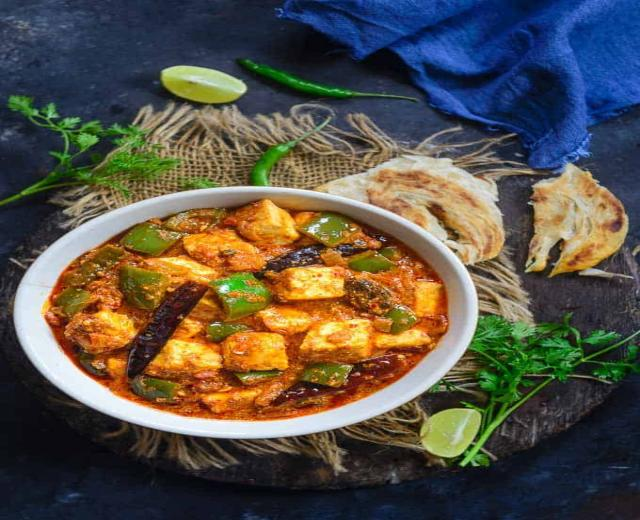kadai paneer: (45, 196, 458, 431)
